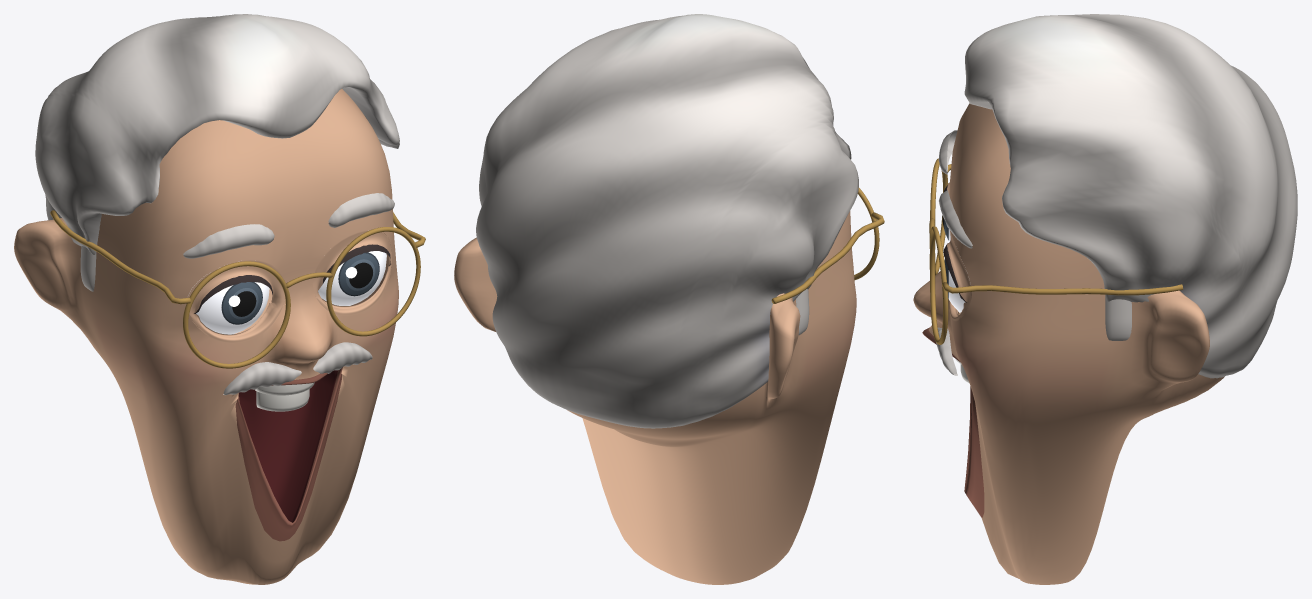
File: avatar-mayor.glb
3 renders of one model, left to right at view 1: azimuth 30°, elevation 25°; view 2: azimuth 150°, elevation 25°; view 3: azimuth 270°, elevation 25°, orthographic. The views are drawn at different scales.
Parts seen in each view (by area): view 1: Head, Hair, Lids, Glasses, Brows, Eye_R, Beard, Eye_L, Mouth; view 2: Hair, Head, Glasses; view 3: Hair, Head, Glasses, Brows, Lids.
Boxes of the visible parts, <box> form: Head: <box>14,89,398,584</box>; Hair: <box>35,14,399,291</box>; Lids: <box>187,230,391,343</box>; Glasses: <box>50,210,425,368</box>; Brows: <box>183,193,394,258</box>; Eye_R: <box>188,280,269,334</box>; Beard: <box>223,342,372,395</box>; Eye_L: <box>318,251,386,305</box>; Mouth: <box>255,382,314,411</box>; Hair: <box>476,14,858,428</box>; Head: <box>454,211,856,584</box>; Glasses: <box>771,187,884,303</box>; Hair: <box>964,14,1297,378</box>; Head: <box>913,103,1224,584</box>; Glasses: <box>929,158,1183,344</box>; Brows: <box>938,130,972,248</box>; Lids: <box>943,182,971,321</box>.
Size of what is drawn, in the model's own units: 1.73 by 2.72 by 1.74.
